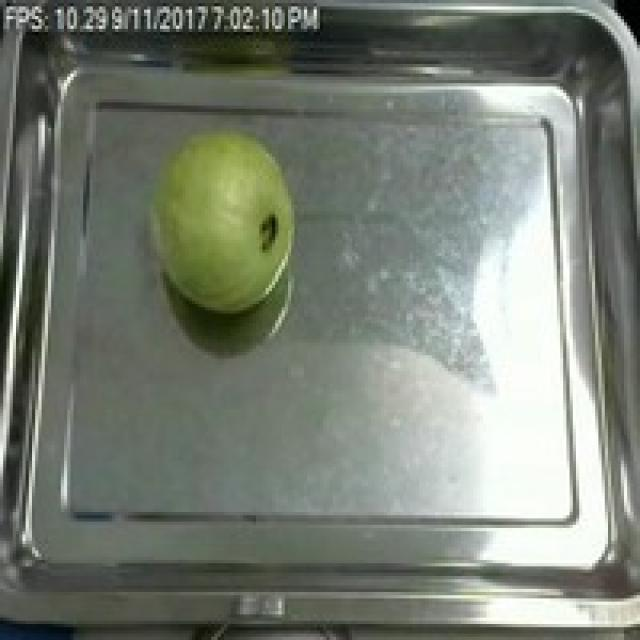Fruit: (137, 122, 310, 323)
